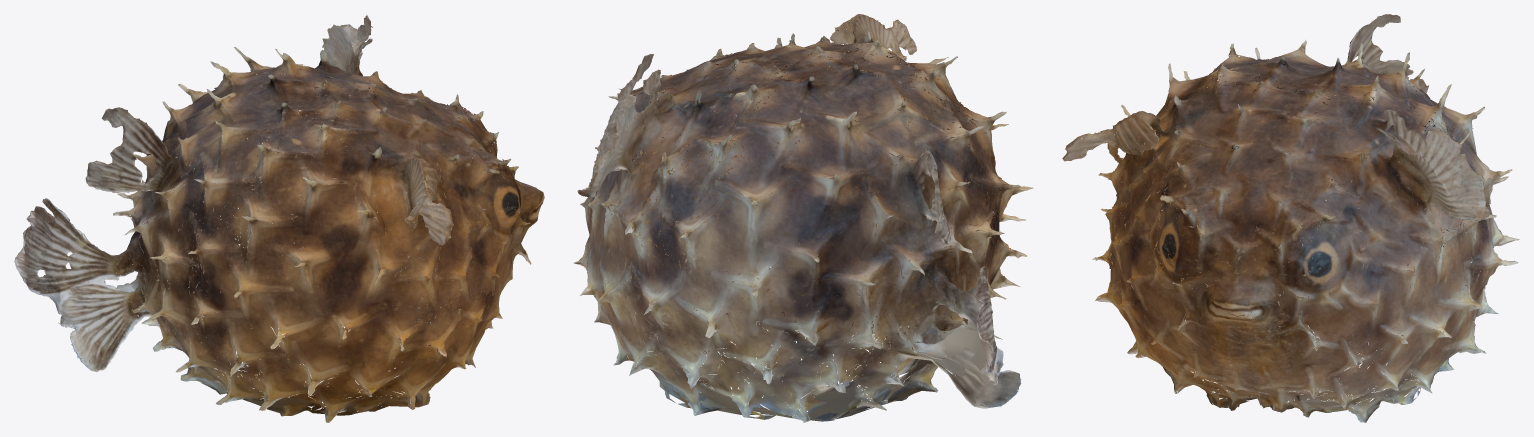
File: puffer2.glb
3 renders of one model, left to right at view 1: azimuth 30°, elevation 25°; view 2: azimuth 150°, elevation 25°; view 3: azimuth 270°, elevation 25°, orthographic. The views are drawn at different scales.
Visible parts, largest first — view 1: Object_2; view 2: Object_2; view 3: Object_2.
Boxes of the visible parts, x1=… form: Object_2: x1=14, y1=14, x2=544, y2=422; Object_2: x1=573, y1=14, x2=1033, y2=422; Object_2: x1=1062, y1=14, x2=1519, y2=422.
Size of the model in its own units: 1 by 0.6705 by 0.897.
1 material, 1 textured.
